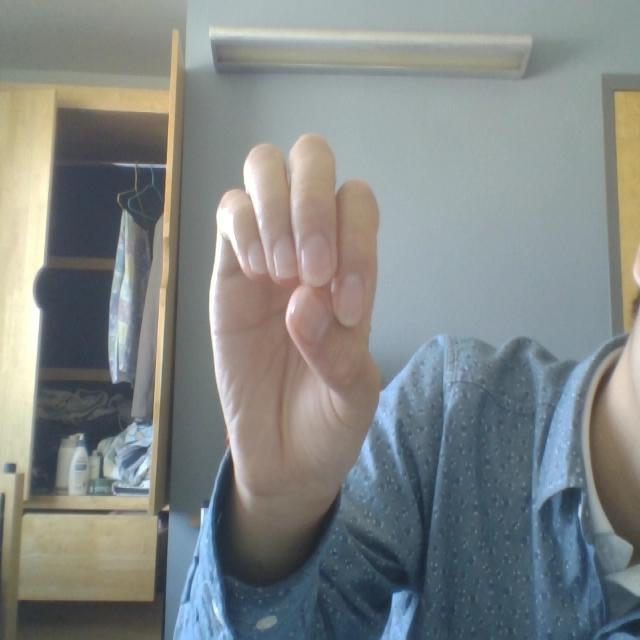E: (176, 103, 437, 552)
